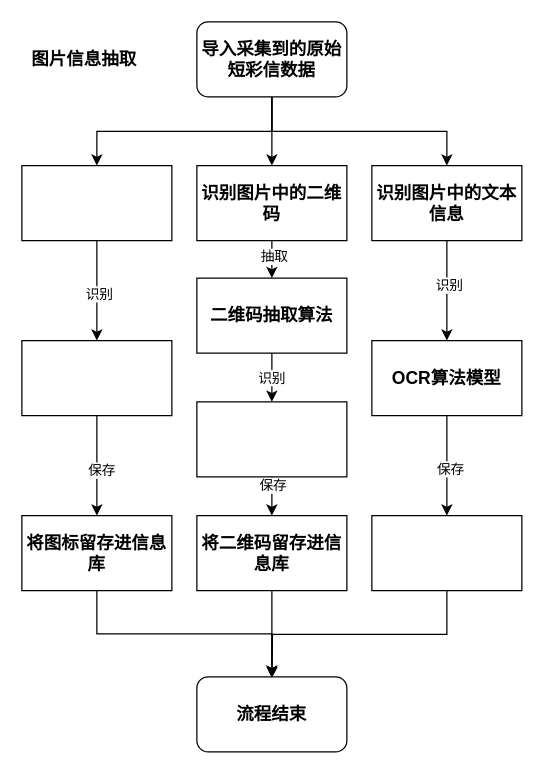
Image size: 544x774. Some labels were removed from this diagram. The shapes that lost their labels are listed below. From the top down, each one's centre as x and y in pixels, then its label:
the point at 96,202: 识别图片中的图标
the point at 96,377: 图标识别算法模型
the point at 271,439: 二维码识别算法
the point at 446,552: 文本信息抽取结果留存进信息库
